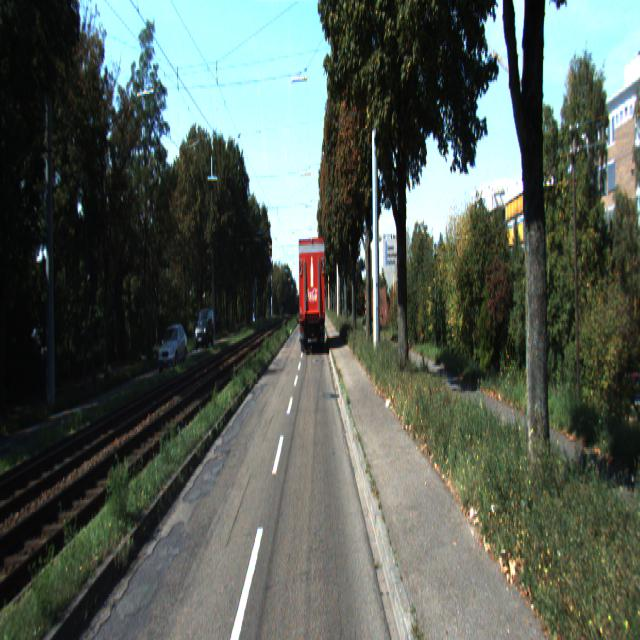Car: (296, 236, 326, 355), (157, 324, 188, 377), (194, 310, 215, 352)
